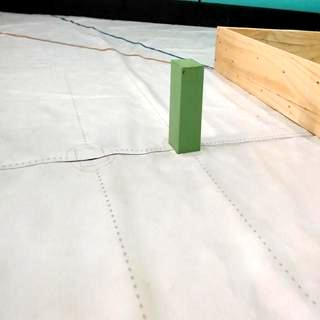greenbox: (167, 56, 206, 156)
